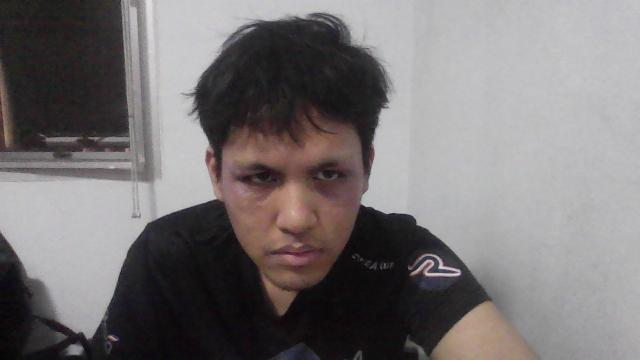fokus: (214, 63, 372, 290)
